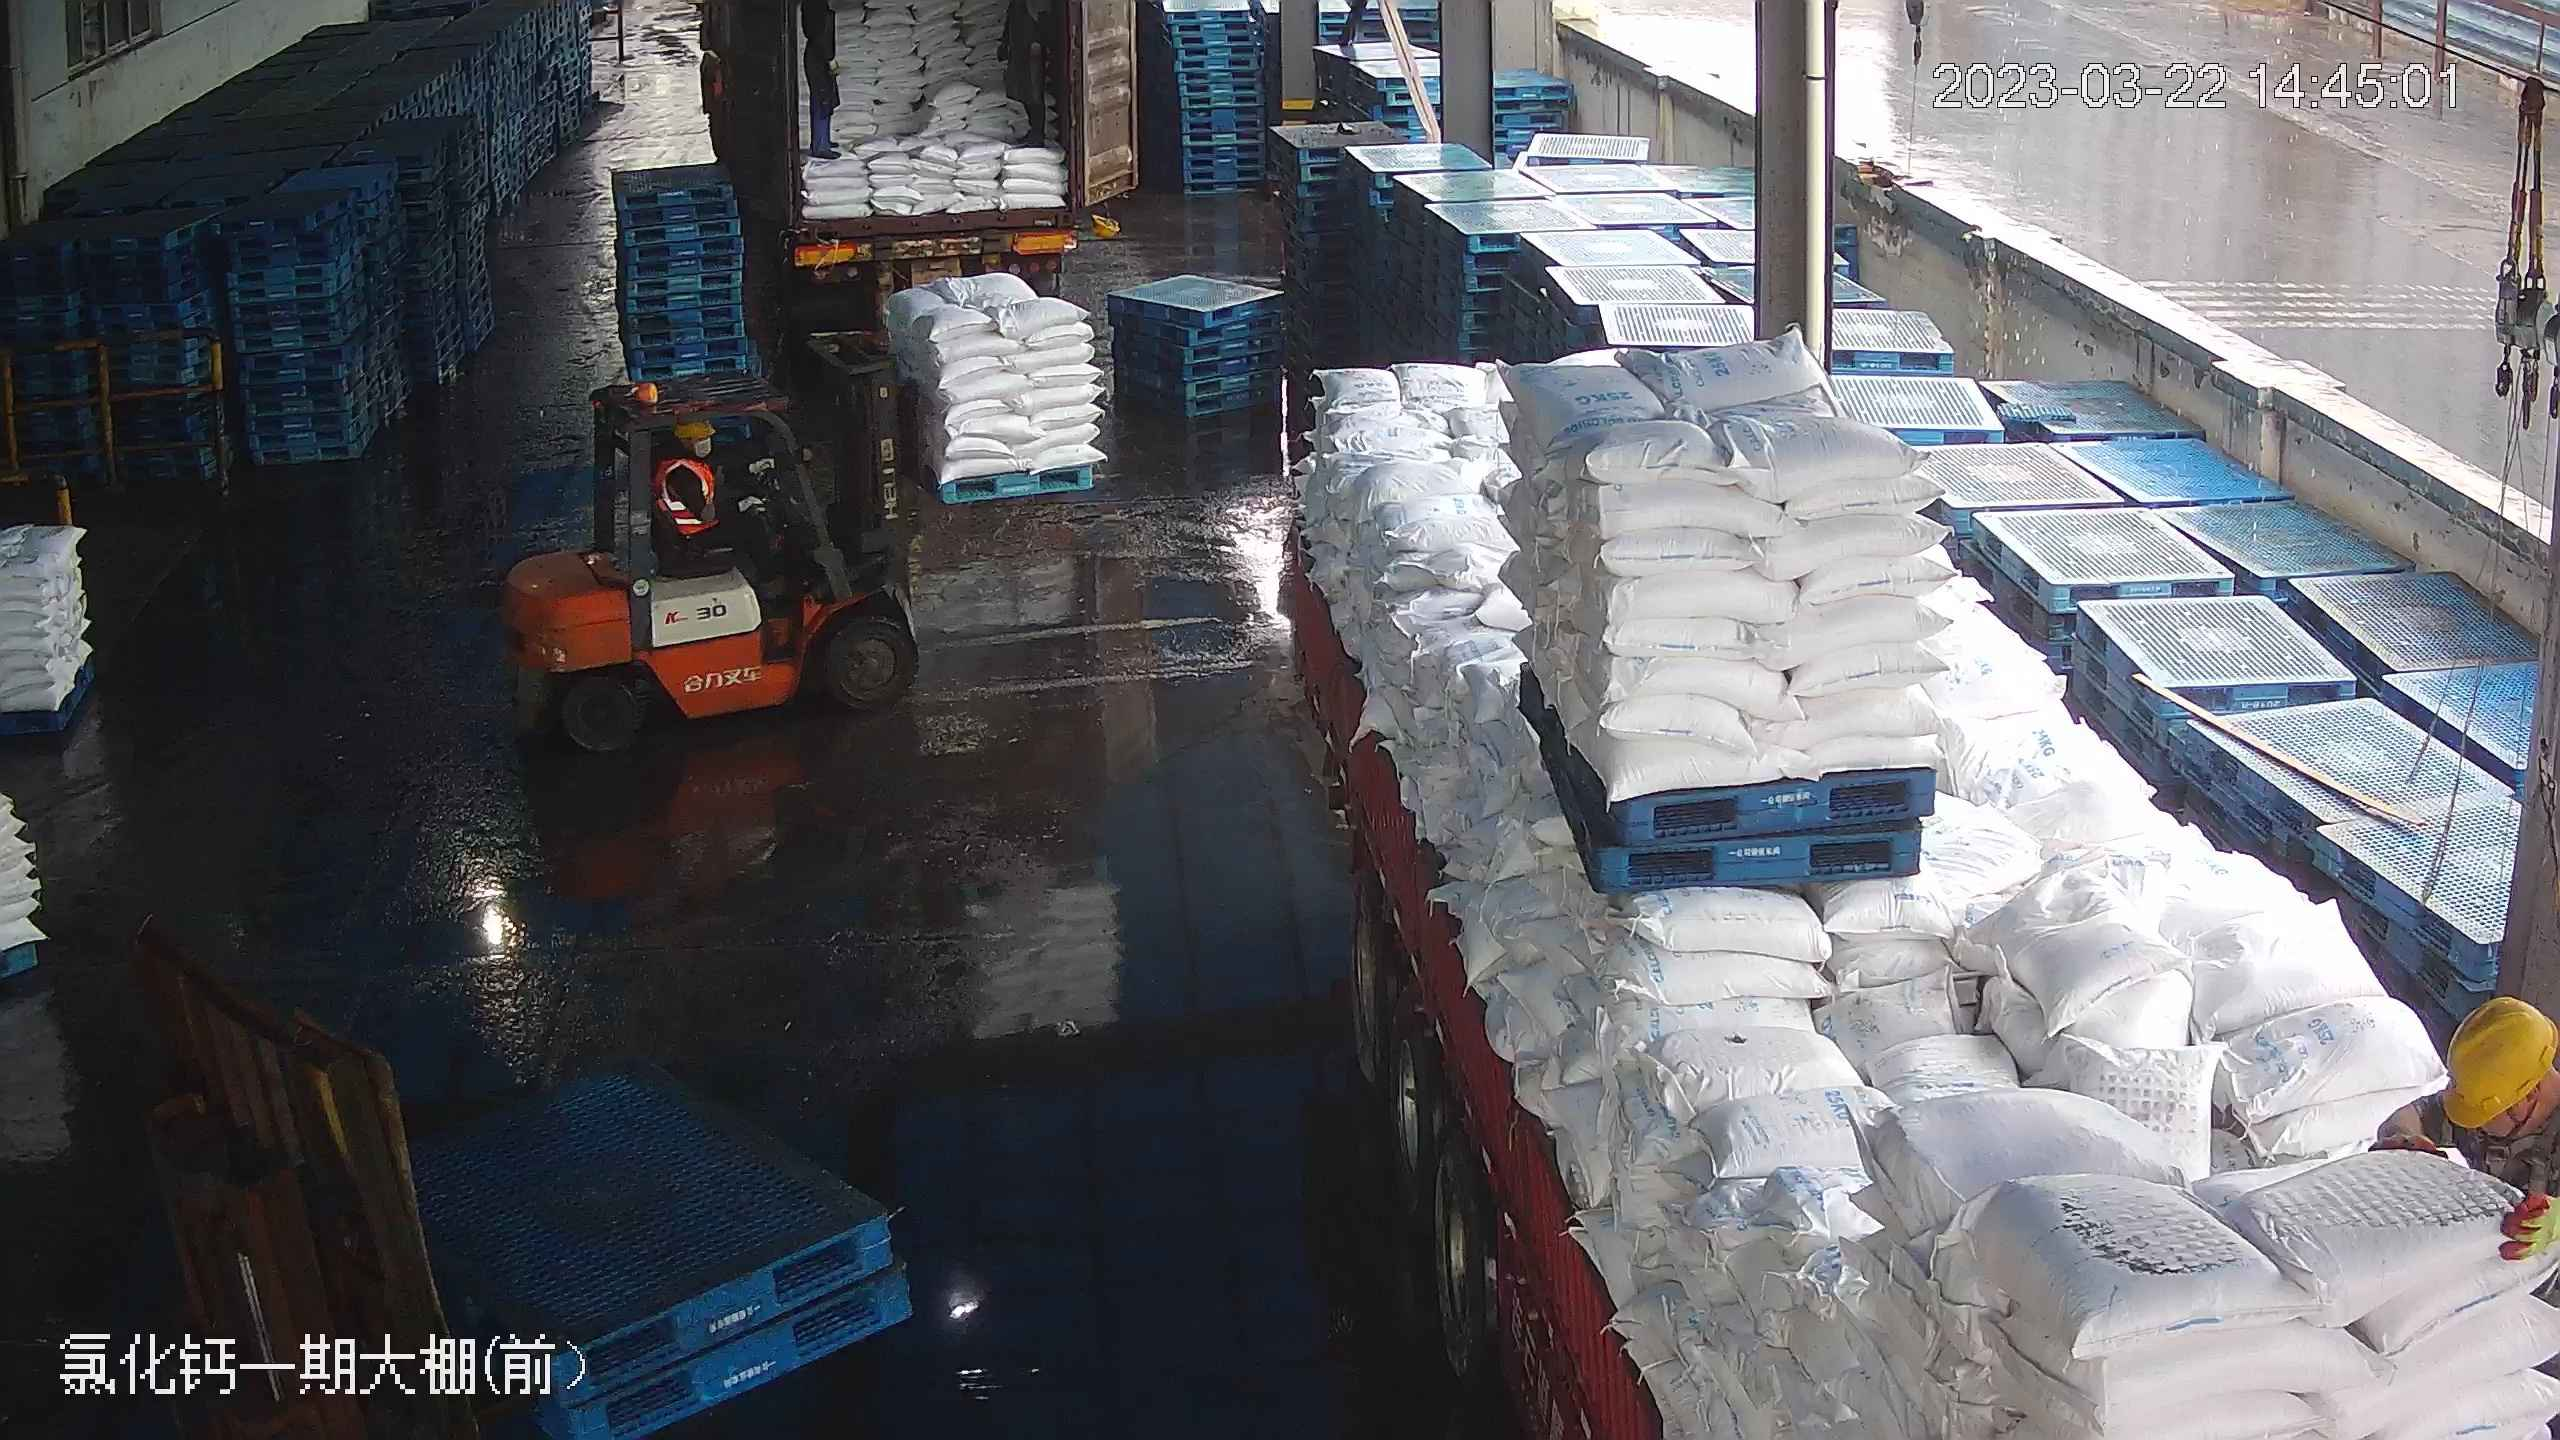belt: (2474, 1114, 2546, 1190)
head: (2428, 986, 2559, 1152), (657, 416, 723, 498)
helmet: (2439, 993, 2554, 1129), (673, 416, 714, 443)
people: (2373, 989, 2559, 1440), (655, 416, 796, 595)
truck: (1244, 283, 2549, 1440), (723, 1, 1124, 298)
